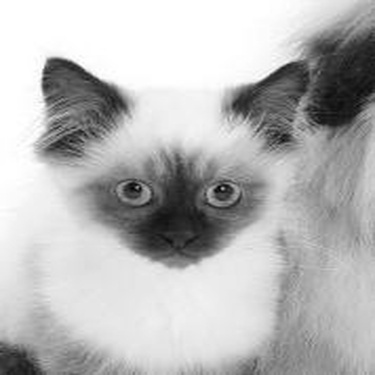cat: (2, 55, 321, 371)
